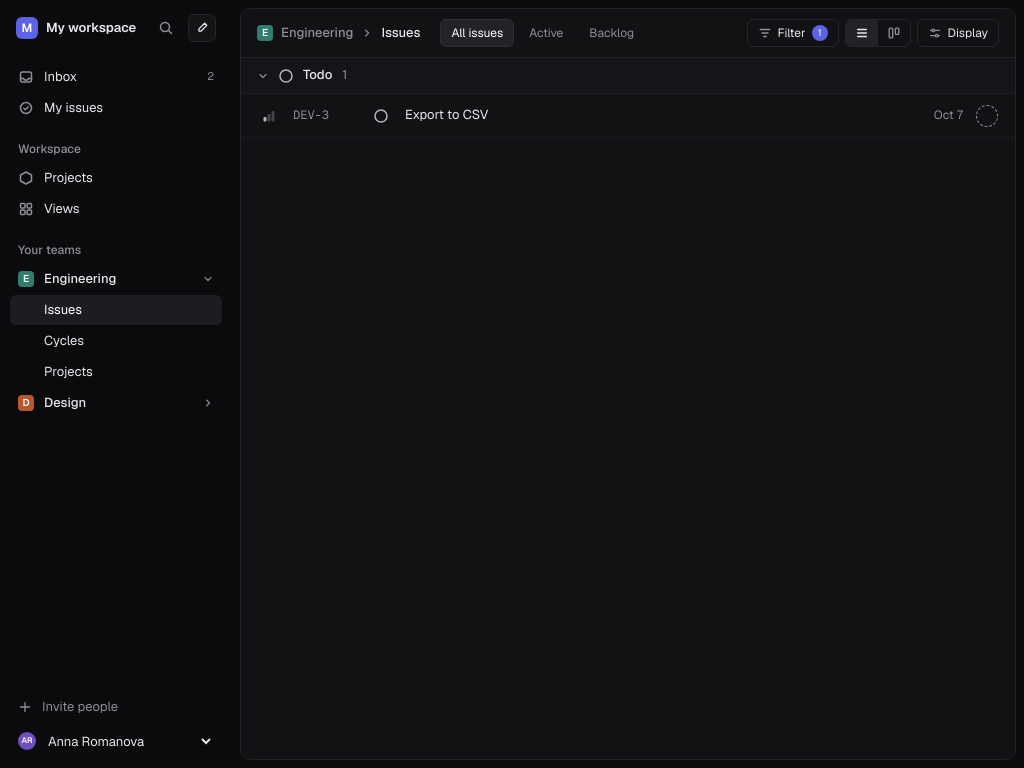
Test: views › toasts when saving a view fails
Check: the link "Export to CSV" is shown, box [405, 106, 488, 123]
Click the button "Filter 1" at (793, 33), box [747, 19, 838, 47]
(page scrolled)
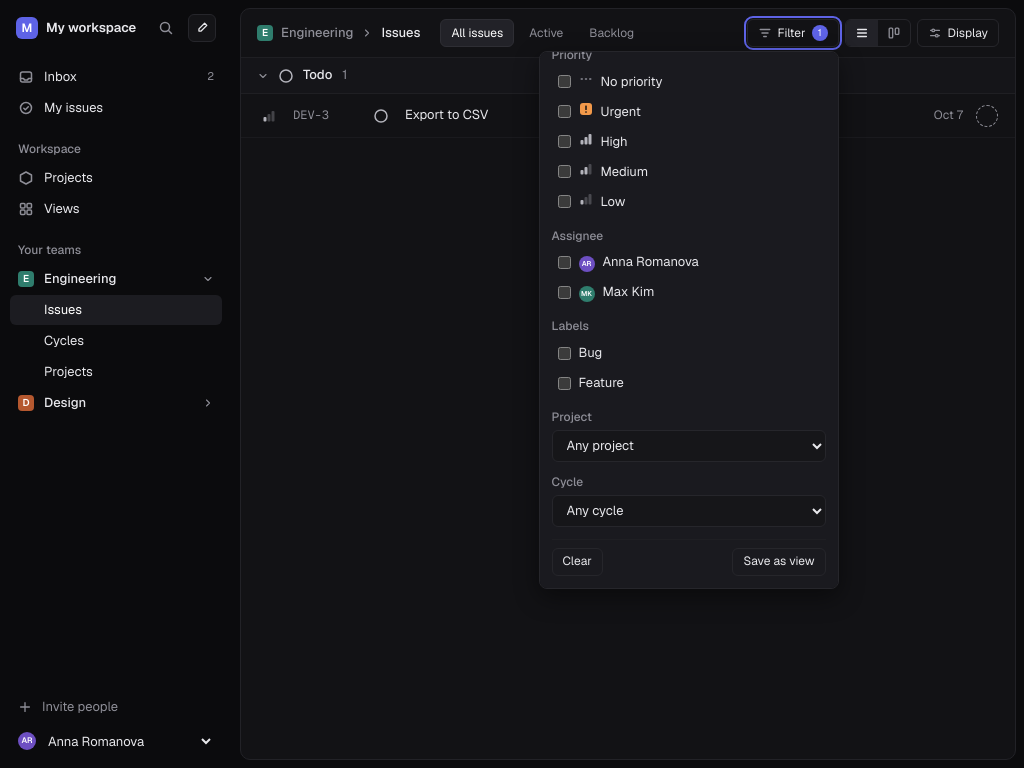
Click the button "Save as view" at (779, 562), box [732, 548, 826, 576]
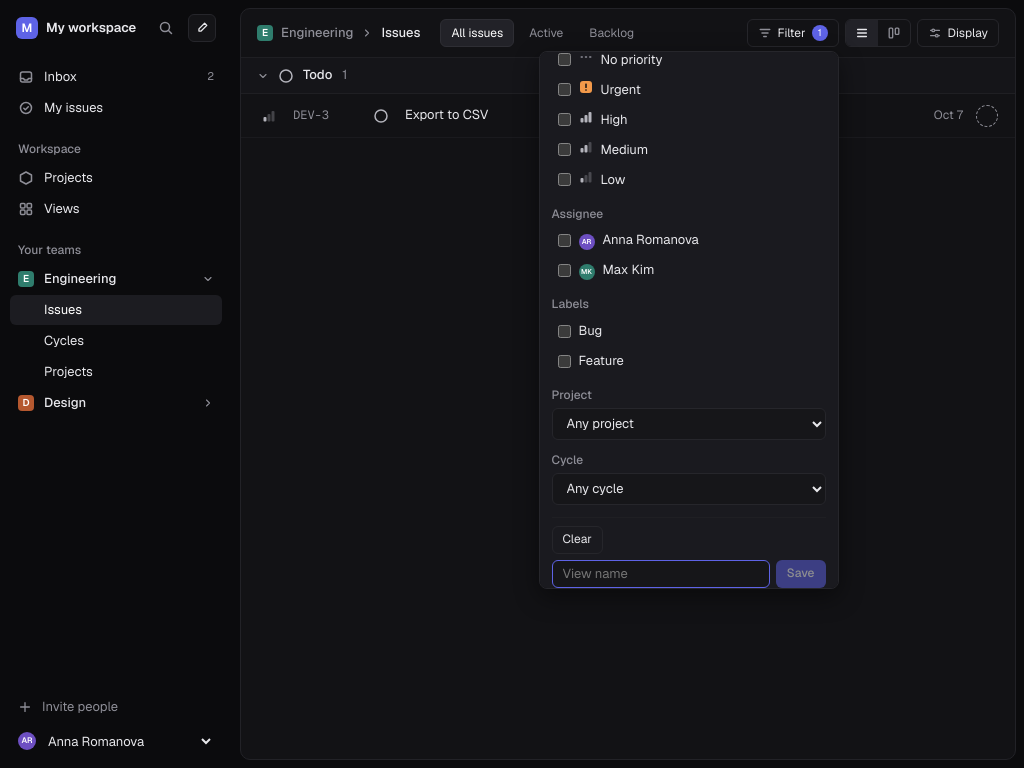
Type "Todo only" into the field labelled "View name" at (661, 574), box [552, 560, 770, 588]
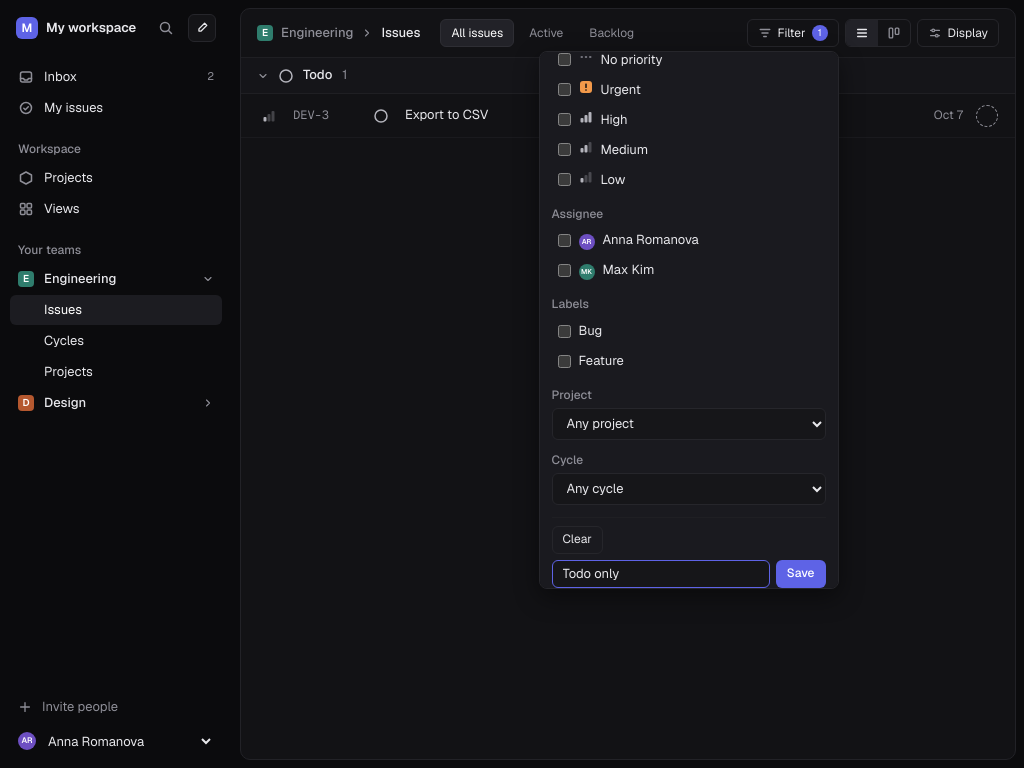
Click the button "Save" at (801, 574), box [776, 560, 826, 588]
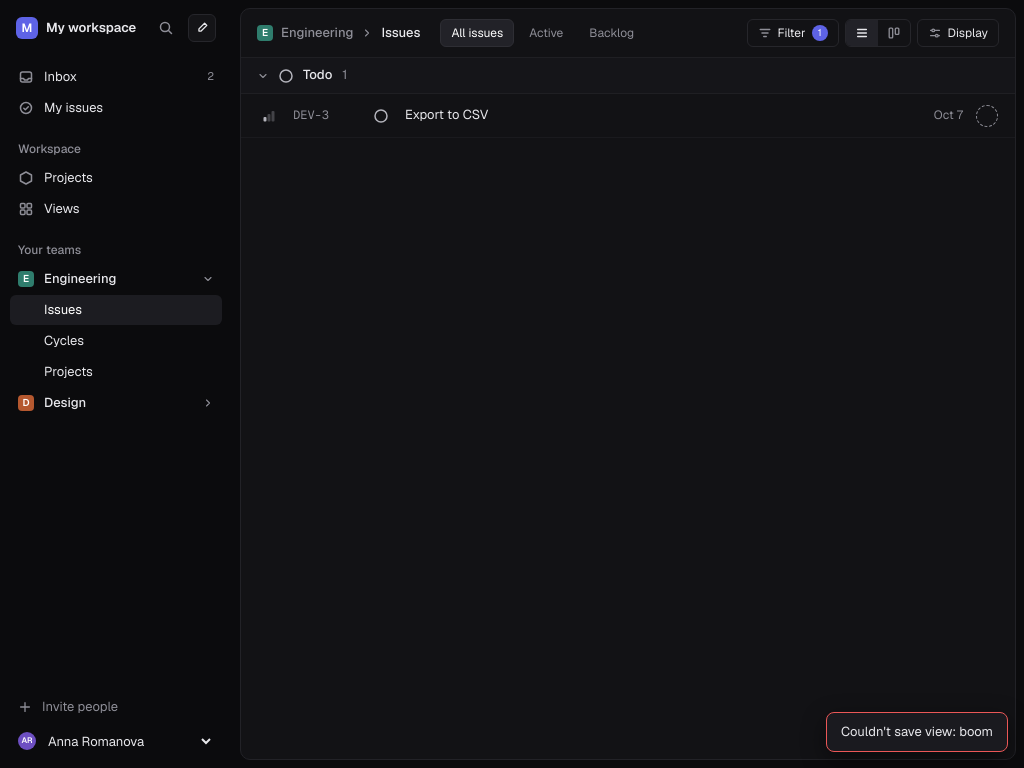
Check: the text "Couldn't save view: boom" is shown, box [826, 712, 1008, 752]
